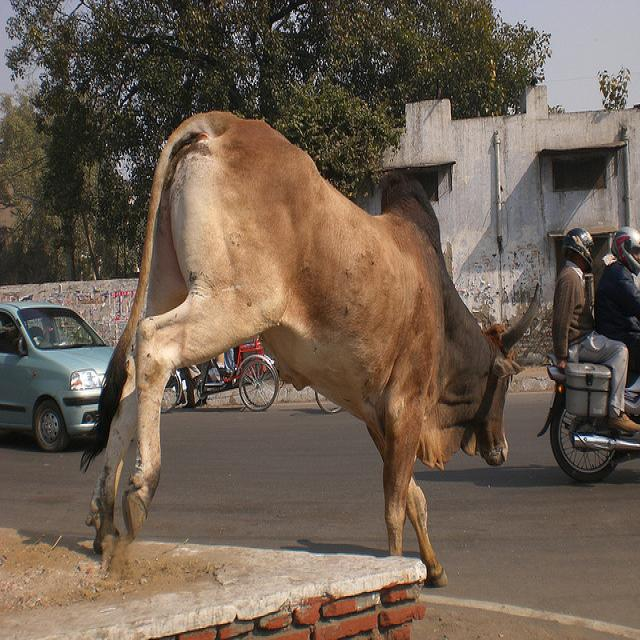motor: (553, 352, 638, 478)
